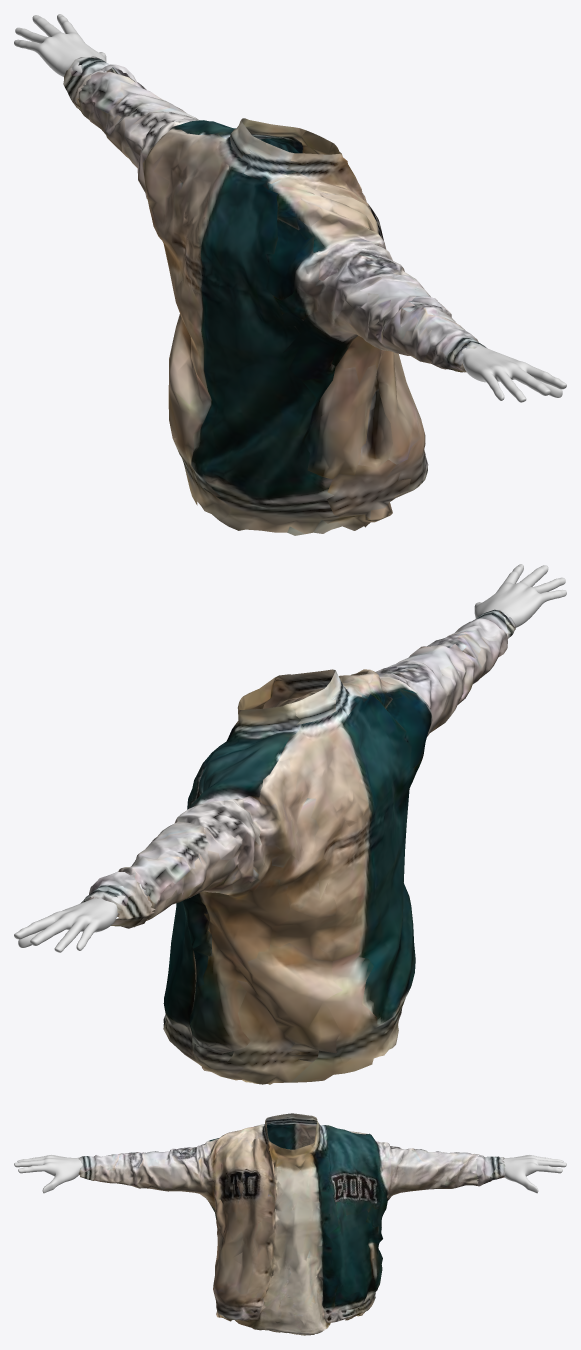
The model's file is hum.glb.
The picture shows the model from 3 angles, top to bottom: view 1: azimuth 30°, elevation 25°; view 2: azimuth 150°, elevation 25°; view 3: azimuth 270°, elevation 25°; orthographic projection. The views are drawn at different scales.
Parts seen in each view (by area): view 1: HumanBody.001; view 2: HumanBody.001; view 3: HumanBody.001.
Part boxes in pixels (x1,y1,x2,y2): HumanBody.001: (14,14,566,535); HumanBody.001: (14,564,566,1084); HumanBody.001: (14,1113,566,1335).
Size of the model in its own units: 0.3641 by 0.6449 by 1.65.
Materials: 2 (1 with a texture image).
